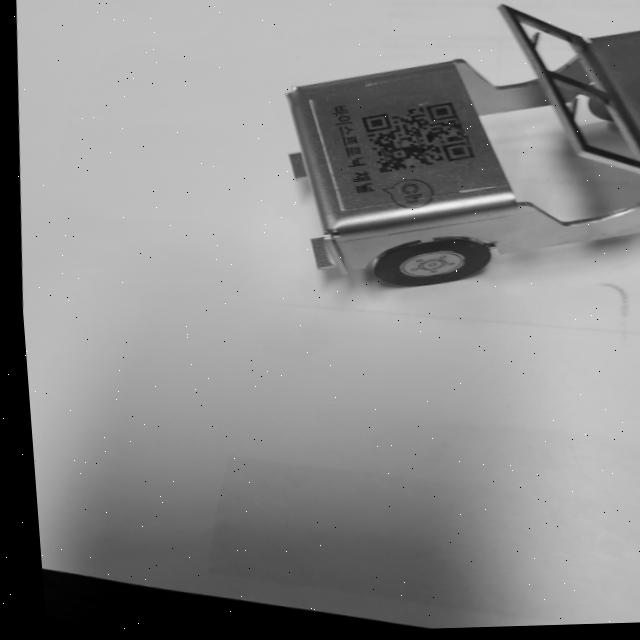tire: (364, 237, 490, 293)
